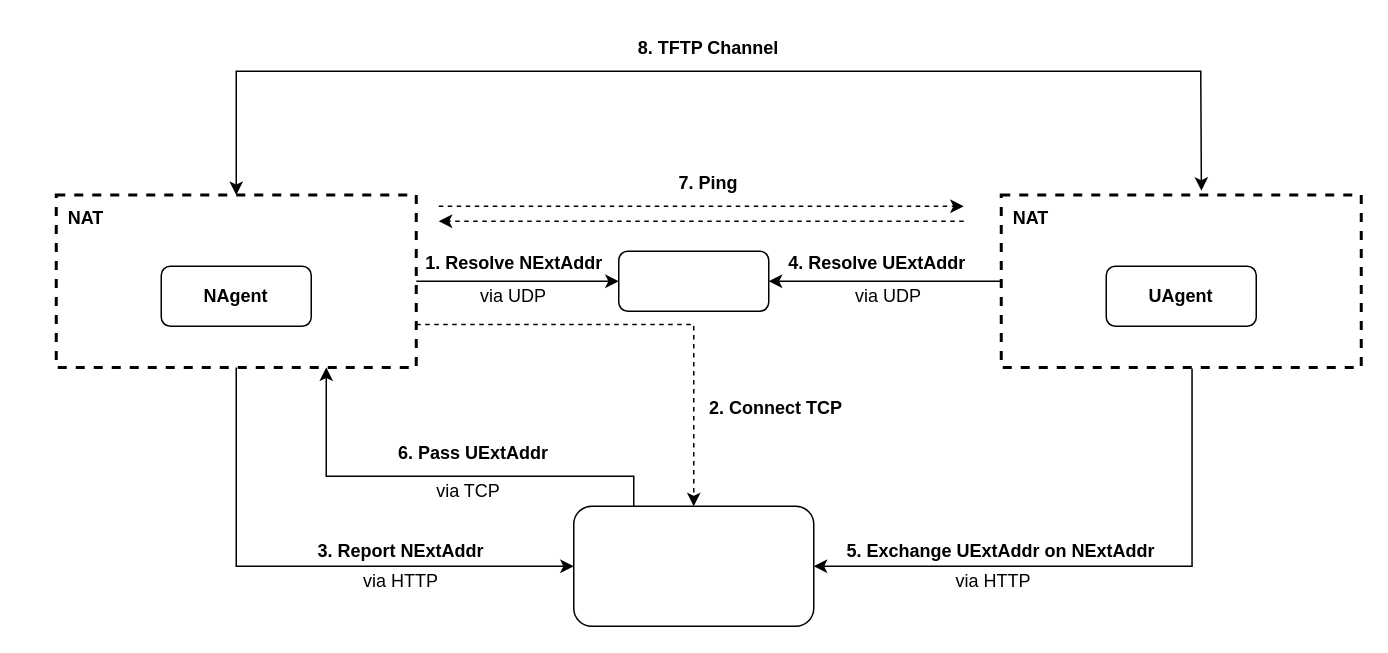
Some shapes in this 1388 by 653 pixel diagram are drawn without their labels. Each missing label, with the centre of its shape:
Agent Manager: [693,565]
STUN: [693,280]
